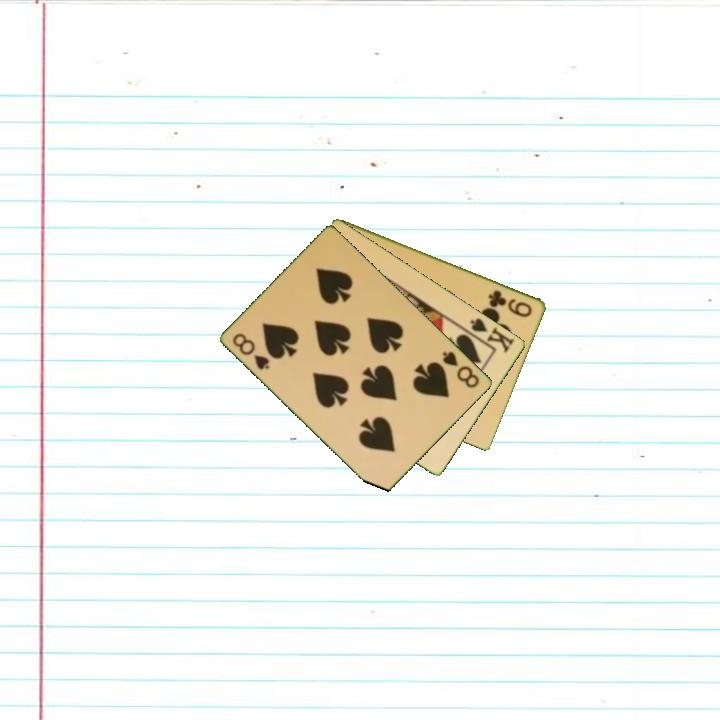8s: (229, 330, 273, 373), (439, 348, 482, 391)
9c: (485, 286, 535, 320)
Ks: (467, 314, 518, 355)
